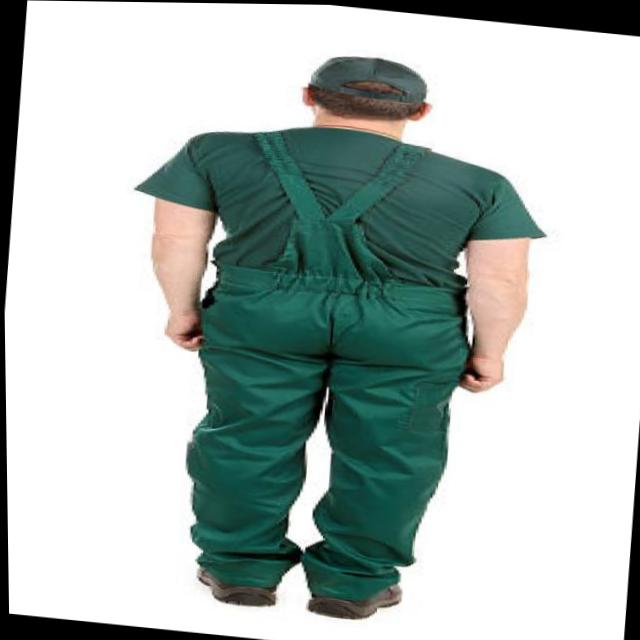no helmet: (265, 30, 476, 162)
